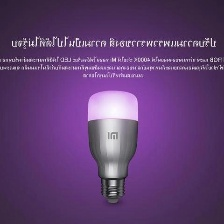light_bulb: (84, 86, 142, 206)
